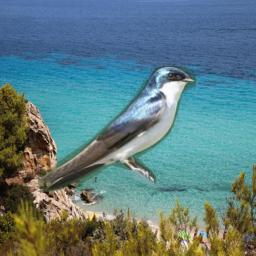Swallow: (38, 66, 196, 192)
